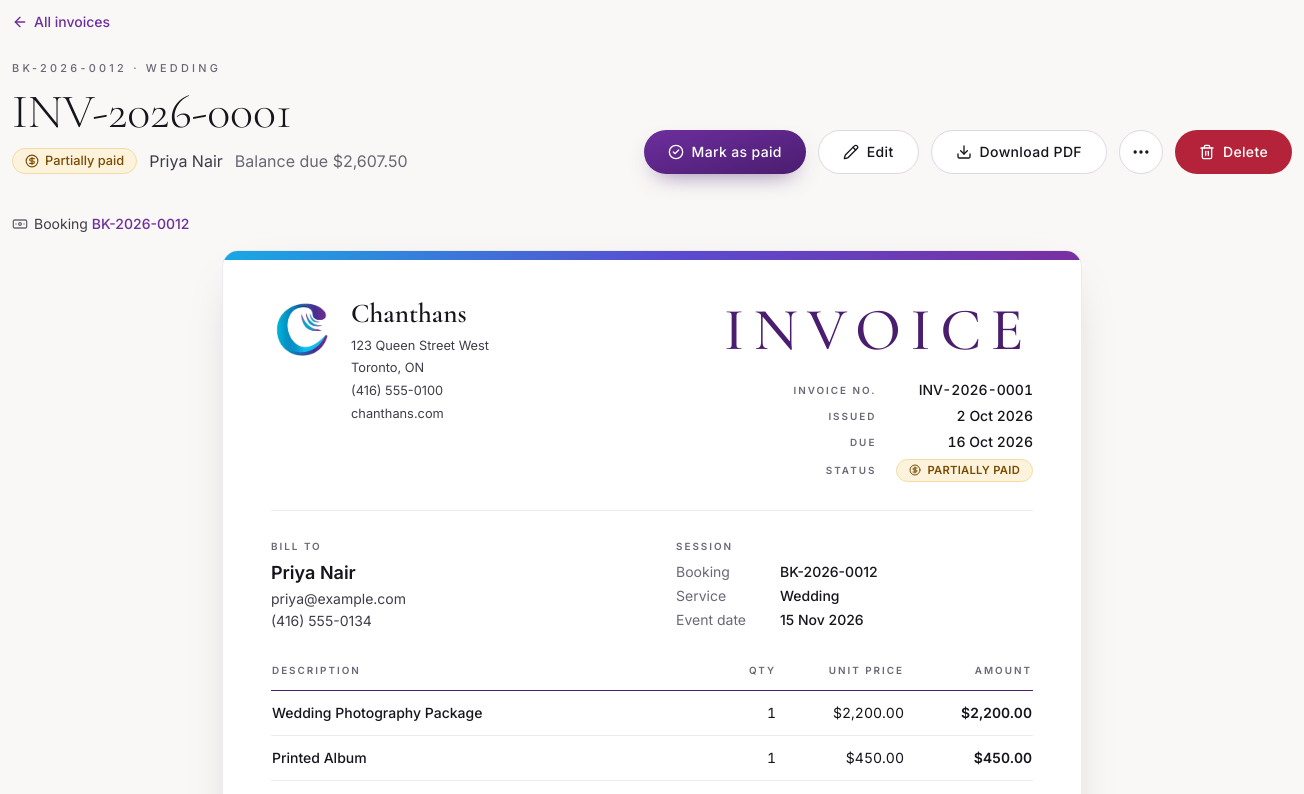
InvoiceDetailPage › shows a friendly message when the PDF cannot be generated
Click the button "Download PDF". click: (1019, 152)
box: [931,130,1107,174]
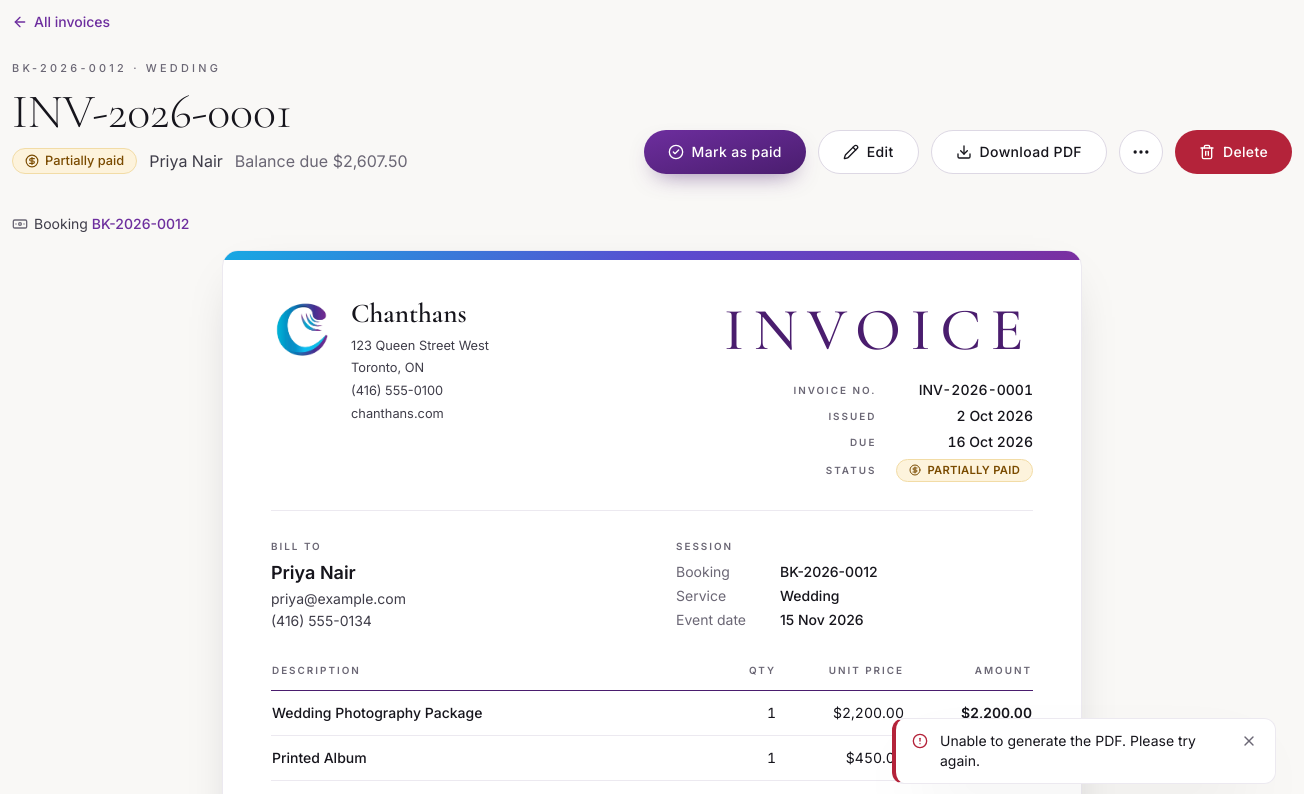
expect the text "Unable to generate the PDF. Please try again." is shown: met, box [940,731,1227,771]
